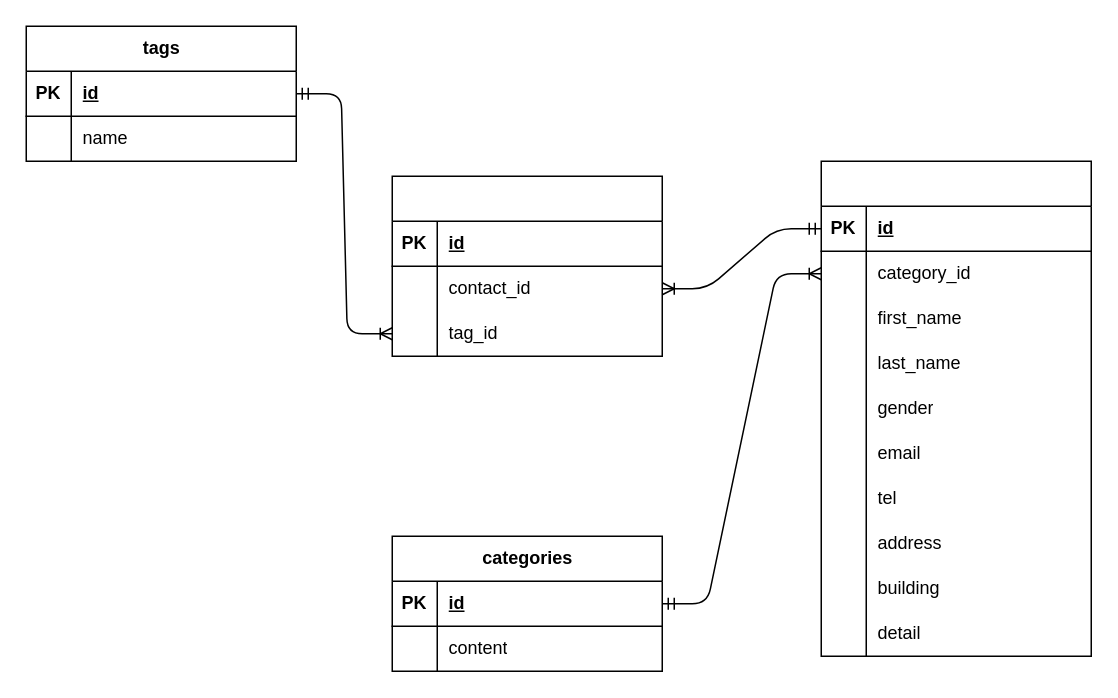
Image size: 1118x698. Some labels were removed from this diagram. The box of each missing label's shape, as (x1, y1, x2, y2) in pixels:
contact_tag: (391, 175, 662, 356)
contacts: (820, 160, 1091, 656)
